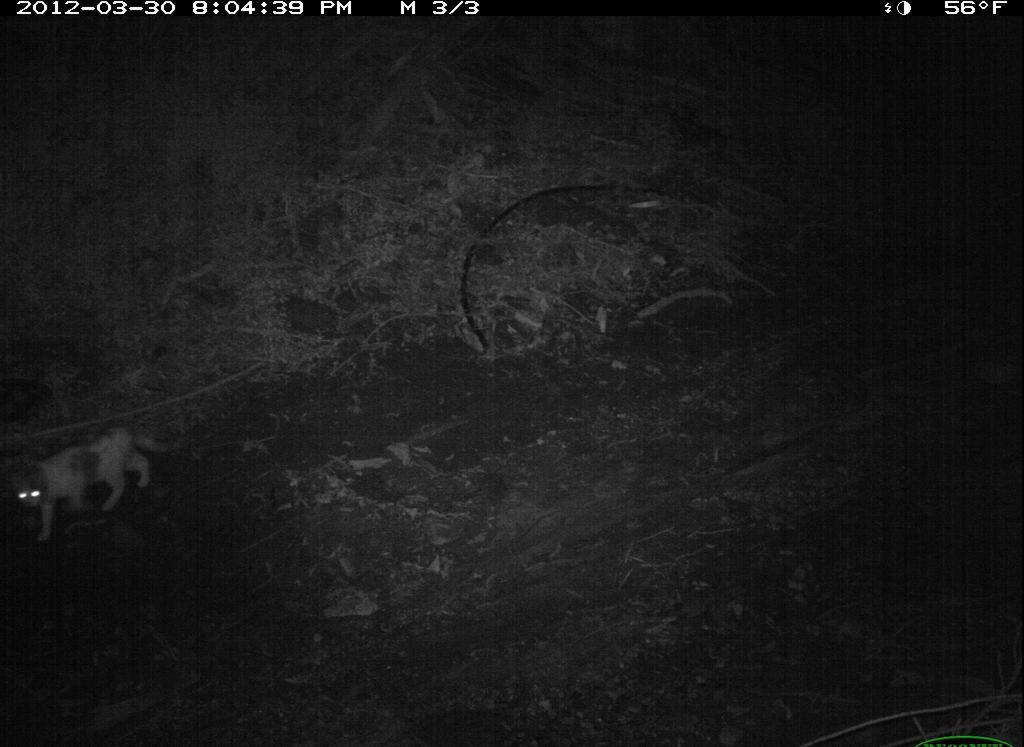cat: (15, 418, 168, 553)
